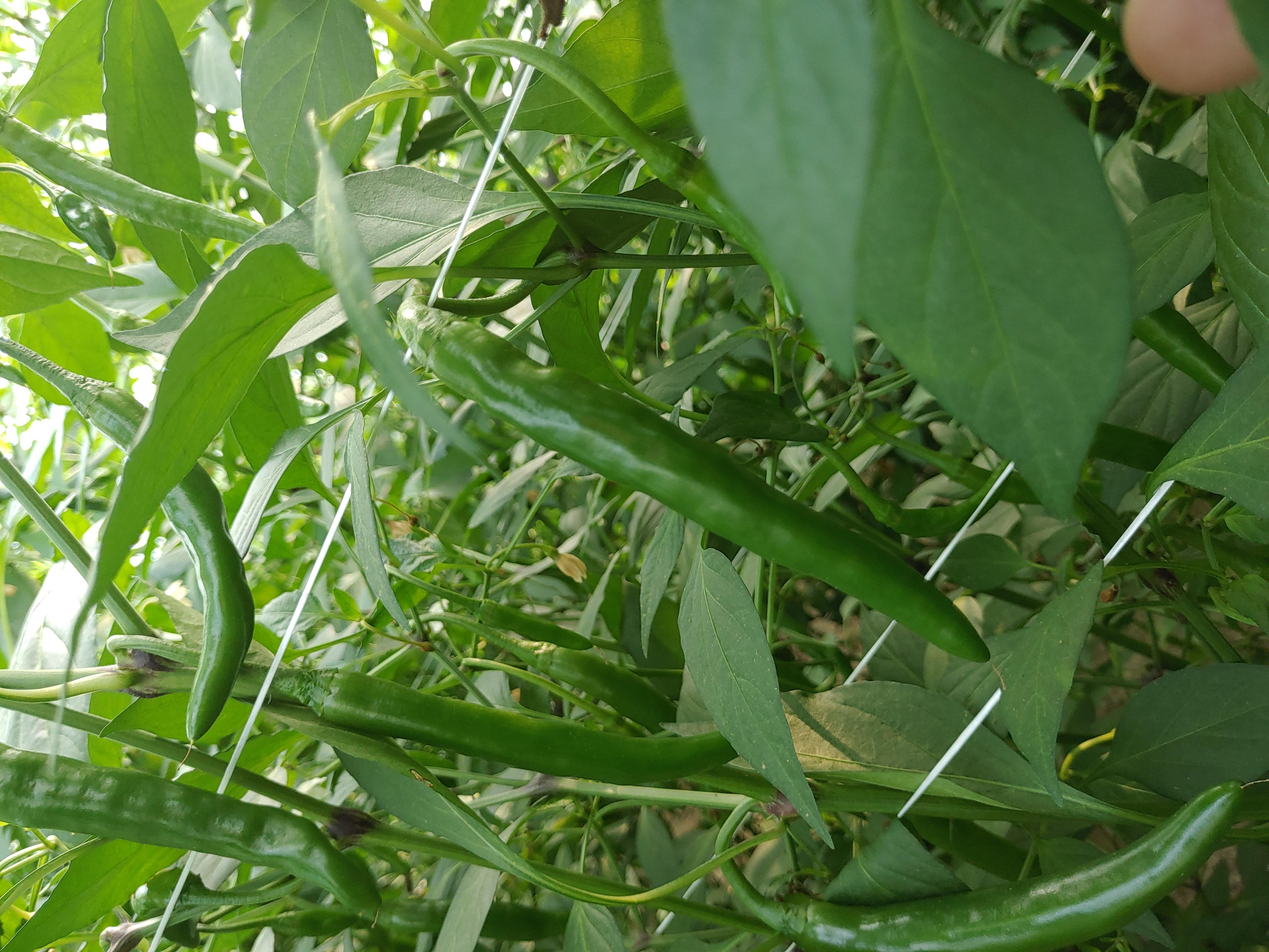Buah Cabai Sehat: (415, 300, 1002, 679), (758, 775, 1262, 952), (0, 749, 388, 948), (65, 369, 262, 753), (301, 658, 747, 792)
